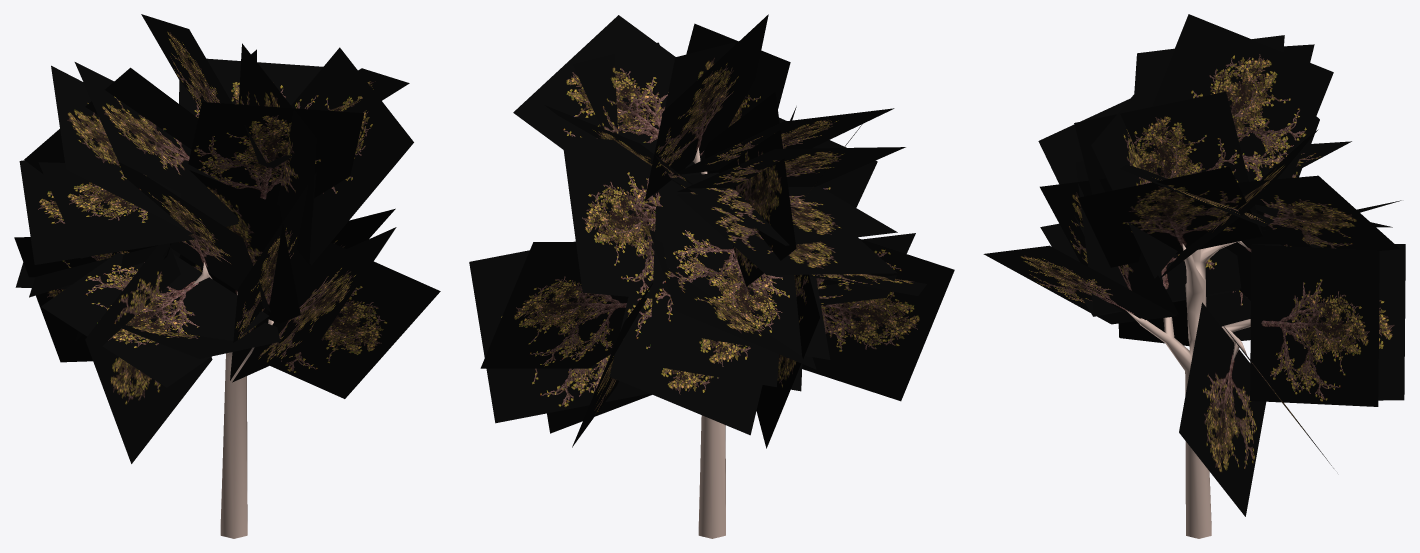
File: tree15.glb
3 views of the same model, side by side, from view 1: azimuth 30°, elevation 25°; view 2: azimuth 150°, elevation 25°; view 3: azimuth 270°, elevation 25° (orthographic). The views are drawn at different scales.
Size of the model in its own units: 5.61 by 6.98 by 5.4.
2 materials, 1 textured.
